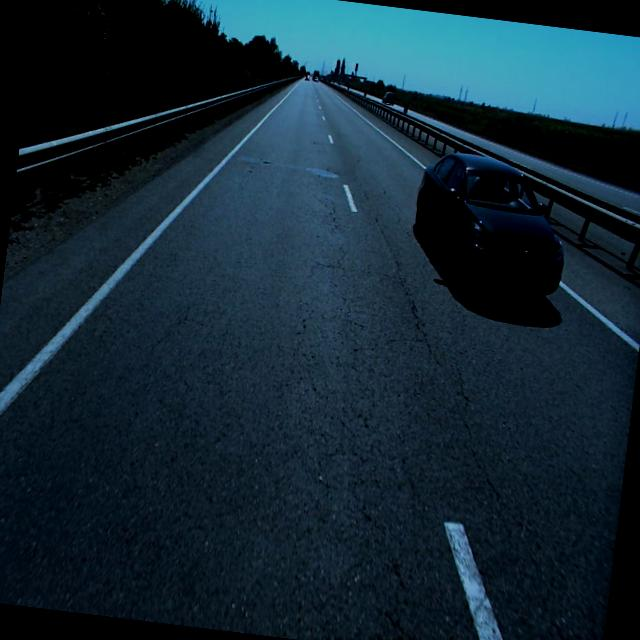road: (0, 78, 640, 640)
